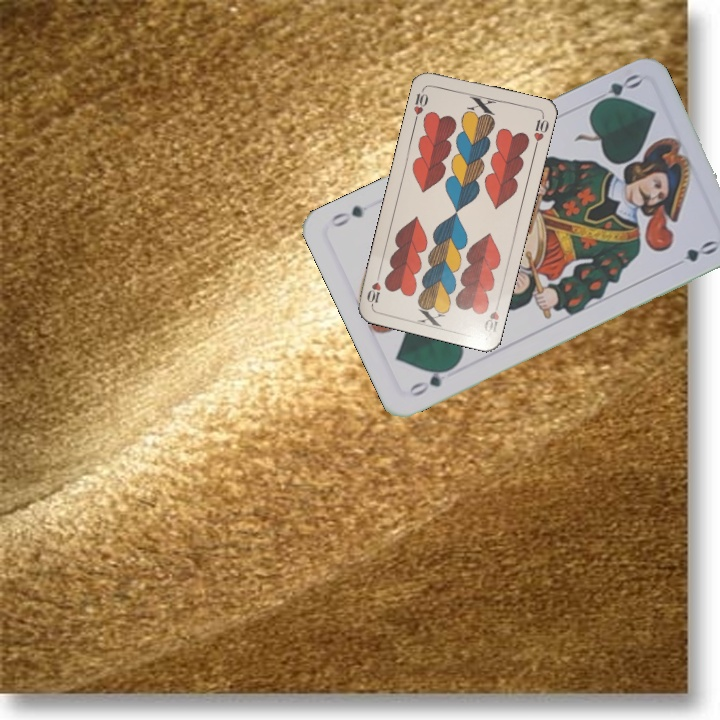GO: (587, 69, 644, 109), (404, 362, 457, 399)
H10: (409, 84, 431, 124), (480, 296, 502, 335)
